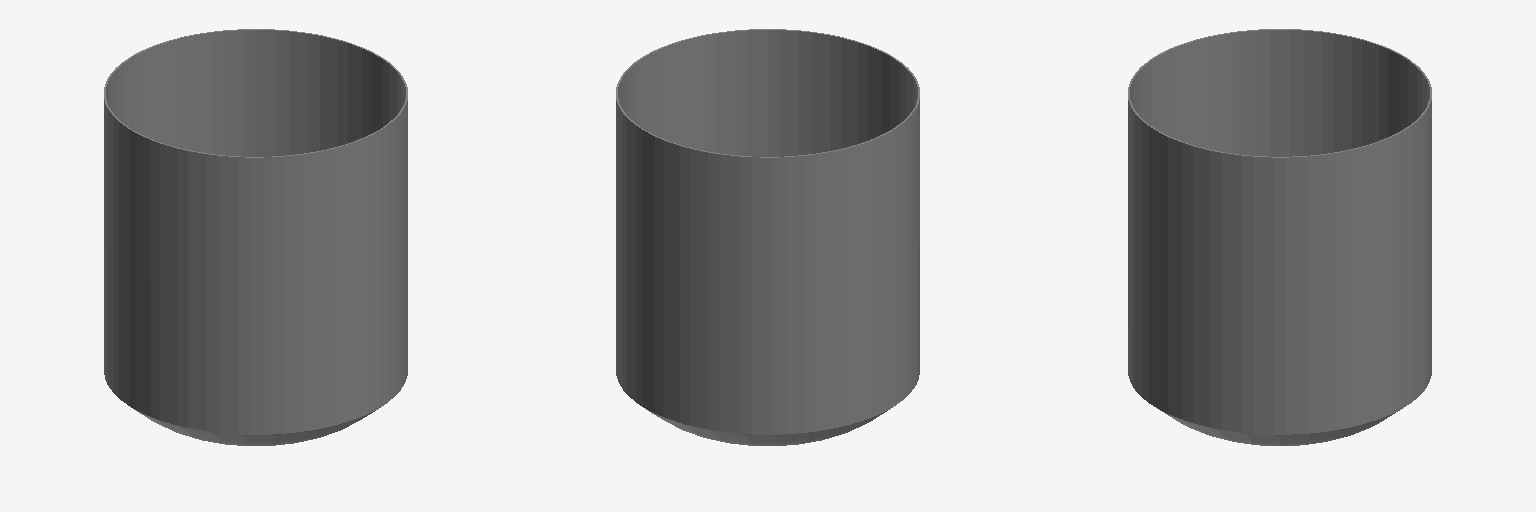
Rendered from CircularBox.obj.
3 views of the same model, side by side, from view 1: azimuth 30°, elevation 25°; view 2: azimuth 150°, elevation 25°; view 3: azimuth 270°, elevation 25° (orthographic).
Parts seen in each view (by area): view 1: Object001; view 2: Object001; view 3: Object001.
Boxes of the visible parts, x1,y1,x2,y2 form: Object001: [104, 29, 407, 445]; Object001: [616, 29, 919, 445]; Object001: [1128, 29, 1431, 445].
Bounding box in the file's own units: 152 × 180 × 152.